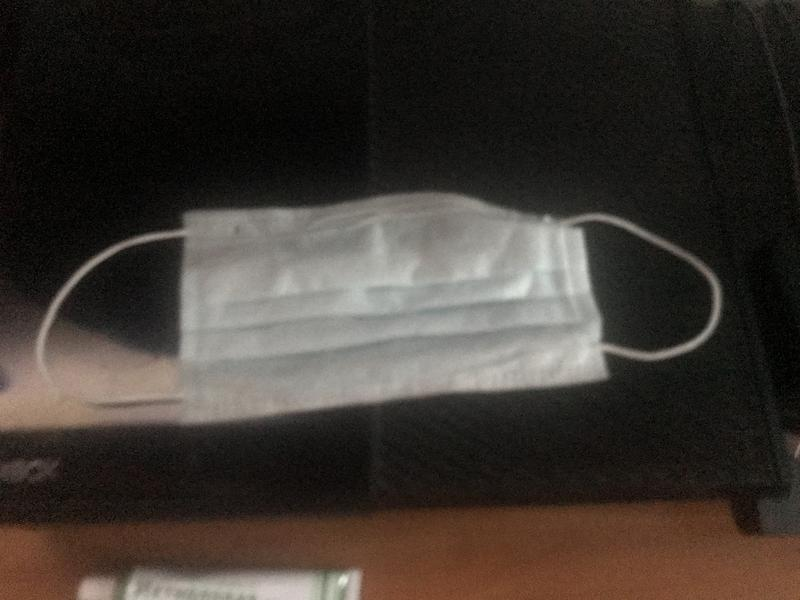medical_mask: (38, 196, 720, 423)
